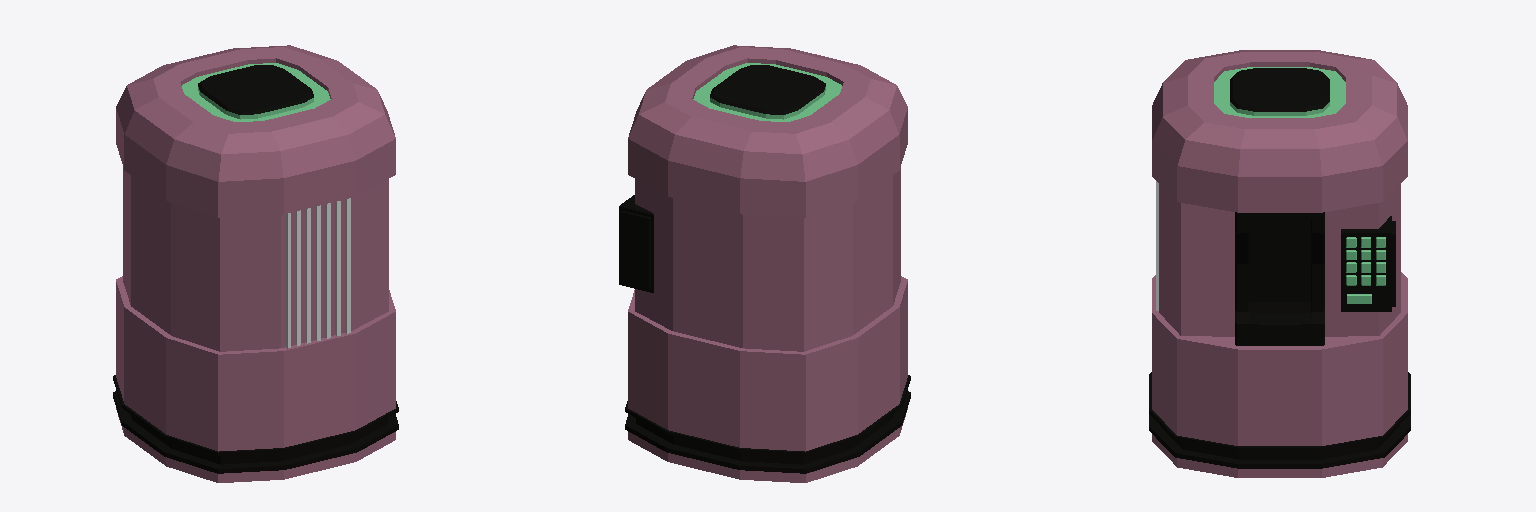
The model's file is BatteryRecycler.obj.
The picture shows the model from 3 angles: view 1: azimuth 30°, elevation 25°; view 2: azimuth 150°, elevation 25°; view 3: azimuth 270°, elevation 25°; orthographic projection.
Parts seen in each view (by area): view 1: Cube.001, Cube.005; view 2: Cube.001, Cube.002; view 3: Cube.001, Cube, Cube.002, Cube.003.
Part boxes in pixels (x1,y1,x2,y2): Cube.001: (113, 45, 398, 482); Cube.005: (286, 198, 350, 348); Cube.001: (625, 45, 910, 482); Cube.002: (619, 195, 653, 292); Cube.001: (1149, 50, 1410, 477); Cube: (1235, 212, 1324, 345); Cube.002: (1341, 216, 1395, 311); Cube.003: (1346, 237, 1385, 285).
Bounding box in the file's own units: 6.13 × 8.71 × 6.13.